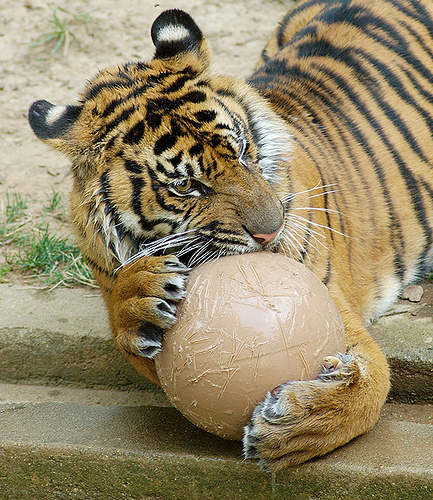Tigre: (71, 46, 421, 311)
